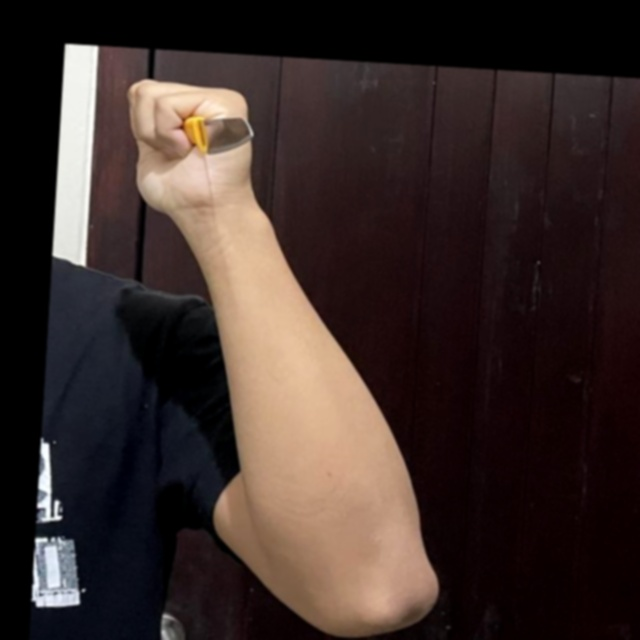Sharp-Object: (179, 110, 258, 161)
